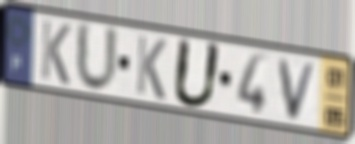4: (234, 50, 269, 118)
K: (39, 17, 73, 88), (134, 32, 168, 103)
U: (170, 35, 224, 111), (74, 19, 120, 97)
V: (277, 57, 320, 123)
